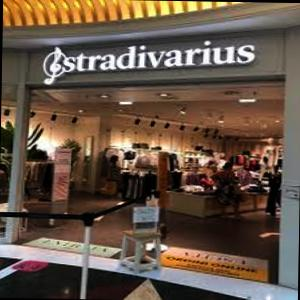stradivarius: (29, 27, 276, 90)
